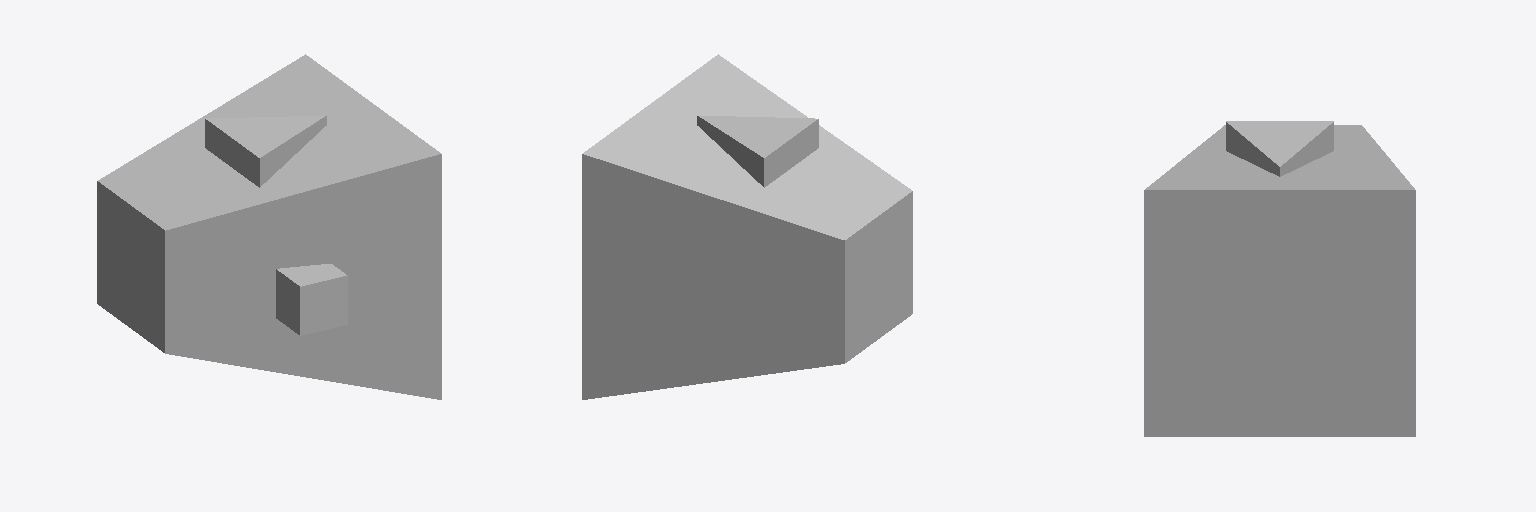
File: thing+x+y.obj
3 views of the same model, side by side, from view 1: azimuth 30°, elevation 25°; view 2: azimuth 150°, elevation 25°; view 3: azimuth 270°, elevation 25° (orthographic).
Parts seen in each view (by area): view 1: Cube; view 2: Cube; view 3: Cube.
Boxes of the visible parts, x1,y1,x2,y2 form: Cube: [97, 54, 441, 399]; Cube: [582, 54, 912, 399]; Cube: [1144, 121, 1415, 436].
Size of the model in its own units: 1 by 1 by 1.